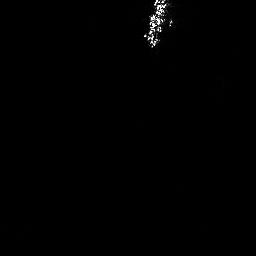ship: (141, 1, 174, 48)
